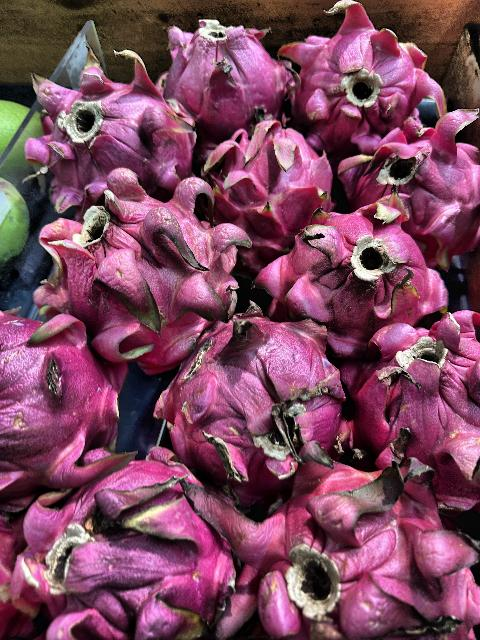buah-naga-matang: (250, 456, 480, 640), (34, 454, 242, 640), (32, 187, 244, 355), (168, 306, 338, 478), (340, 316, 480, 502), (0, 299, 128, 485), (21, 60, 193, 194), (281, 0, 431, 134), (277, 209, 443, 327), (330, 110, 480, 230), (200, 121, 326, 259), (158, 19, 286, 127)
